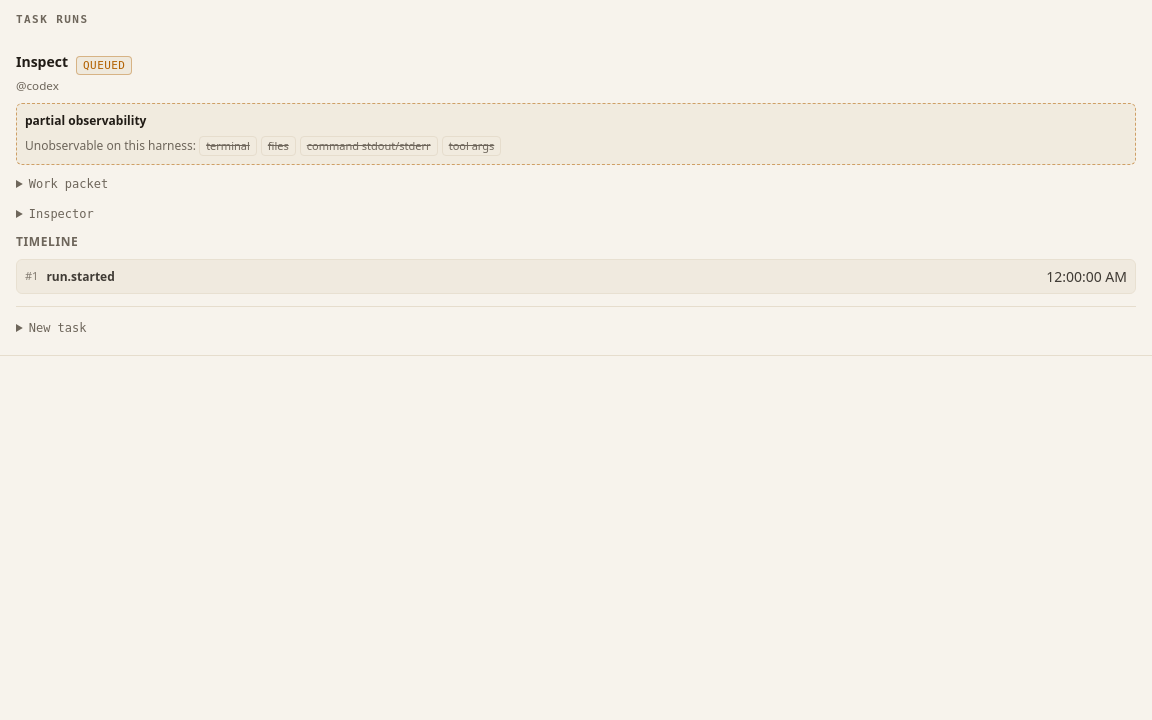
renders timeline, explicit unavailable channels, artifacts, and delegation lineage
Expected: the heading "Timeline" is shown, [16,233,78,250]
What coordinates should you click on to do the following:
click the heading "Inspector"
I would click on:
 (61, 214)
Its box is [29,207,94,221].
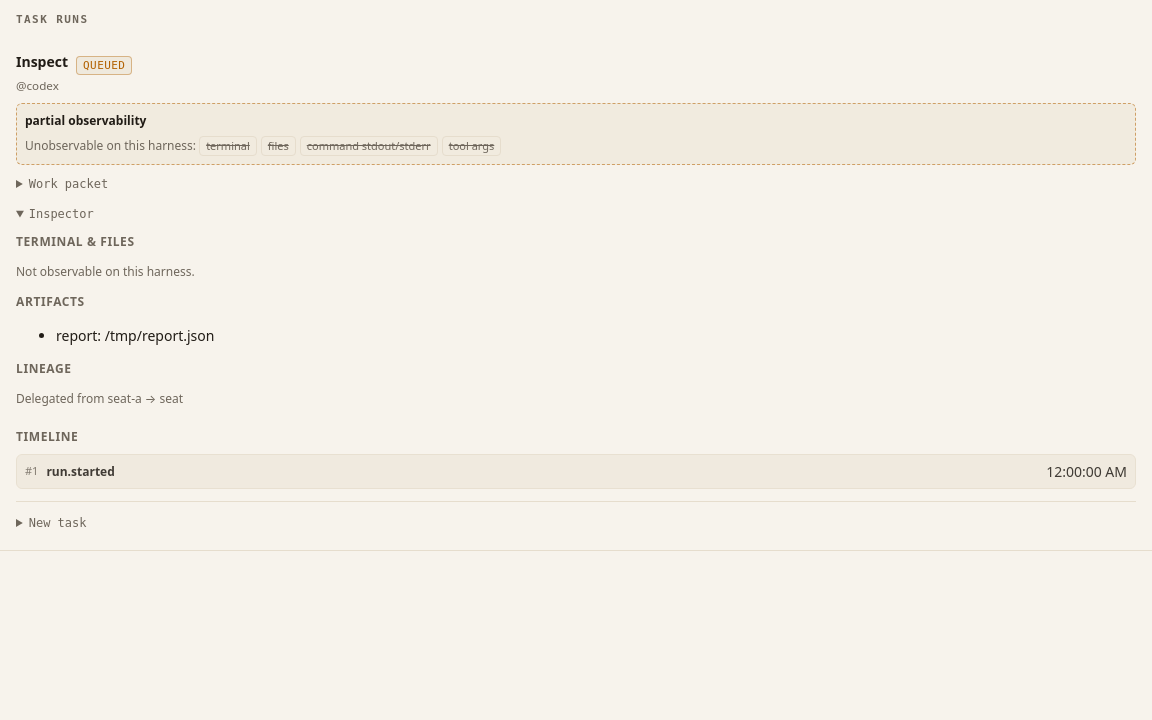
Now the text "Not observable on this harness." is shown, box [16,263,195,280]
Now the list item "report: /tmp/report.json" is shown, box [56,326,214,345]
Now the text "Delegated from seat-a → seat" is shown, box [16,390,183,407]
